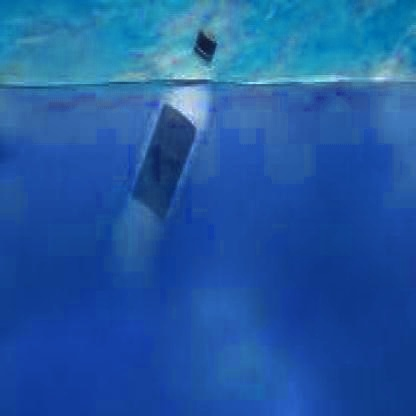pbottle: (101, 20, 221, 288)
